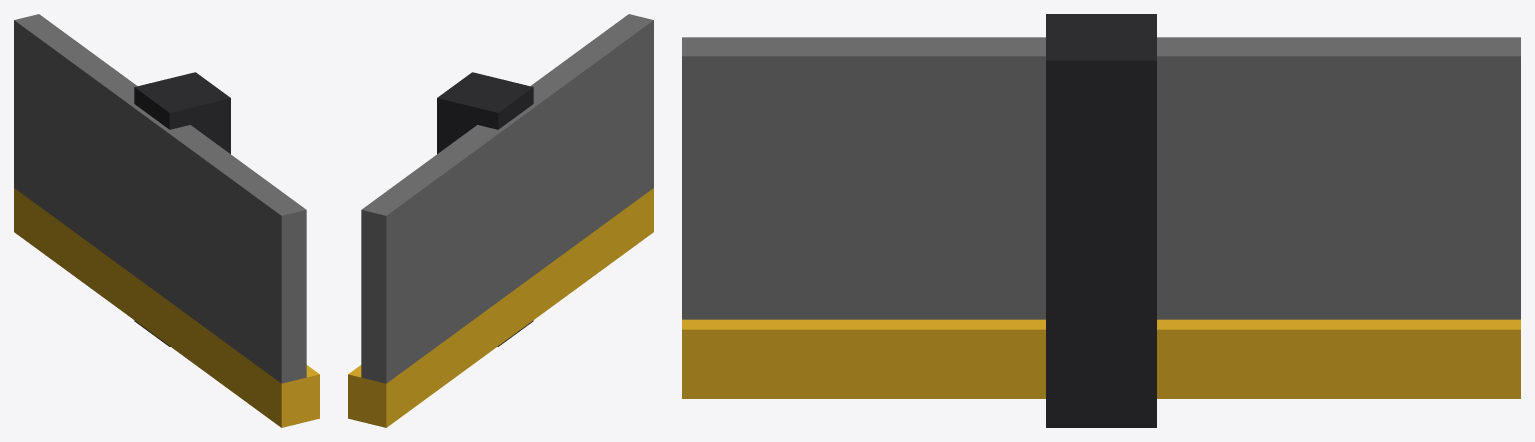
The model's file is wall.fbx.
The picture shows the model from 3 angles, left to right: view 1: azimuth 30°, elevation 25°; view 2: azimuth 150°, elevation 25°; view 3: azimuth 270°, elevation 25°; orthographic projection. The views are drawn at different scales.
Parts seen in each view (by area): view 1: Cube.010, Cube.011; view 2: Cube.010, Cube.011; view 3: Cube.010, Cube.011.
Part boxes in pixels (x1,y1,x2,y2): Cube.010: (14, 14, 319, 427); Cube.011: (134, 72, 230, 346); Cube.010: (348, 14, 653, 427); Cube.011: (437, 72, 533, 346); Cube.010: (682, 37, 1520, 398); Cube.011: (1046, 14, 1156, 427).
Bounding box in the file's own units: 132 × 452 × 935.
